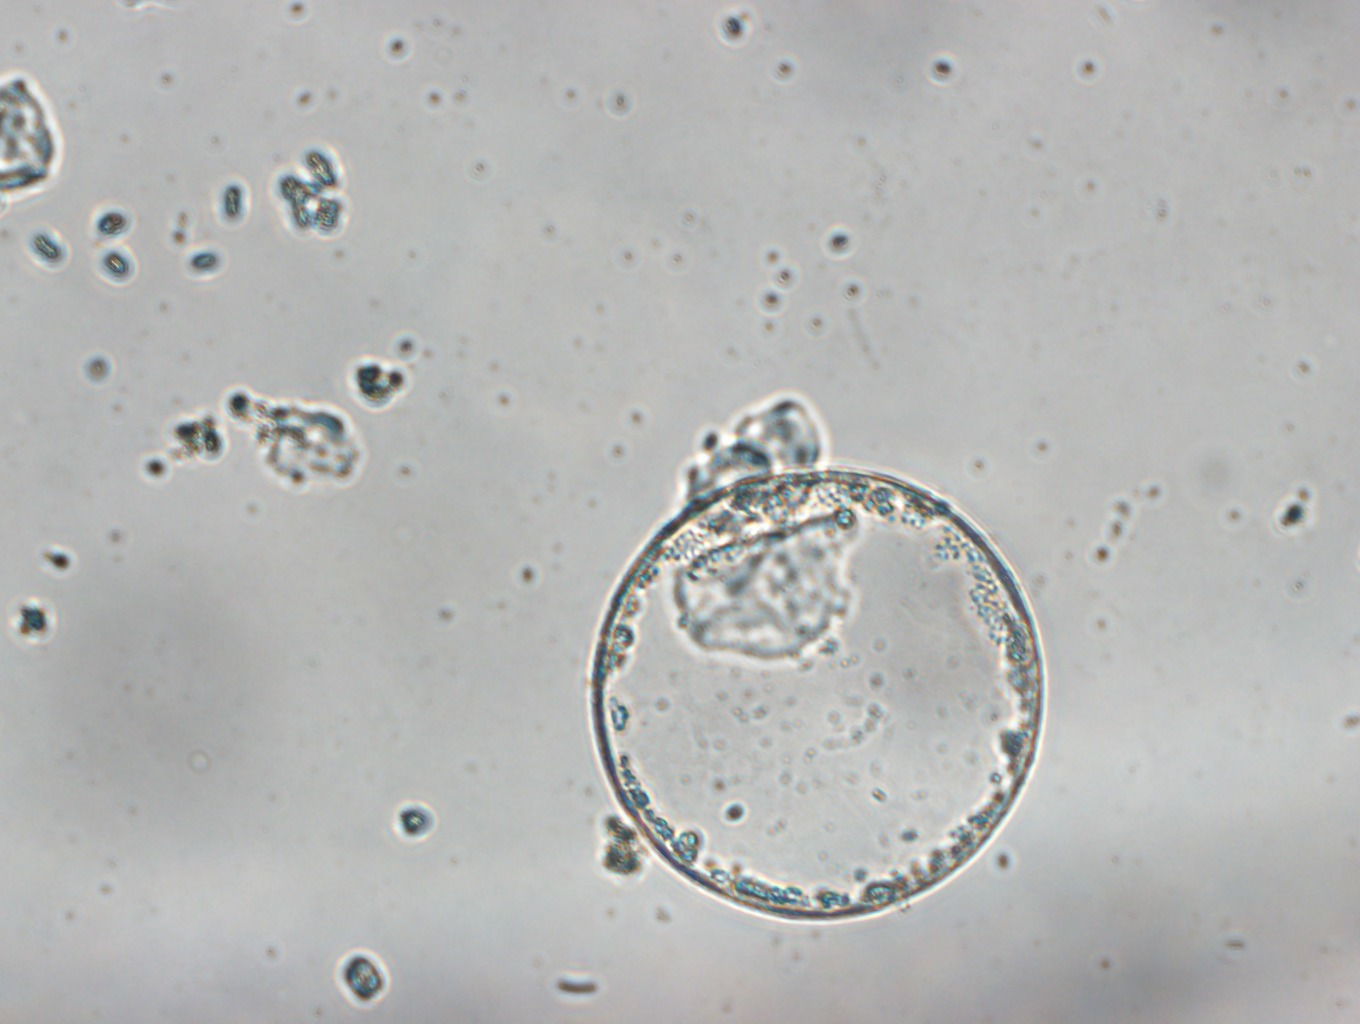coscinodiscus: (579, 465, 1053, 933)
